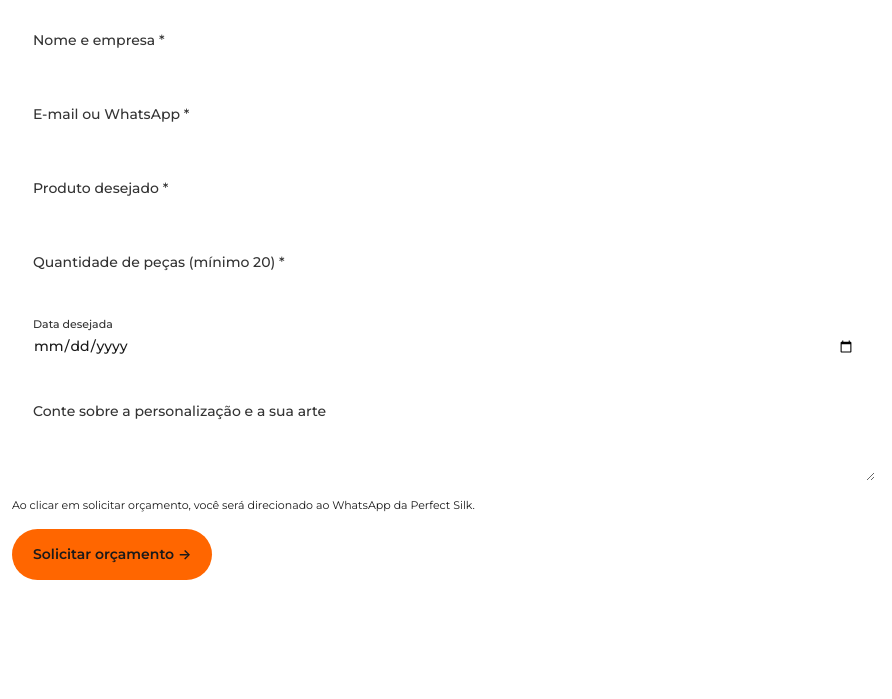
QuoteForm › shows errors and does not open WhatsApp when required fields are empty
Click the button "Solicitar orçamento →" at (112, 554), box x1=12 y1=529 x2=212 y2=580
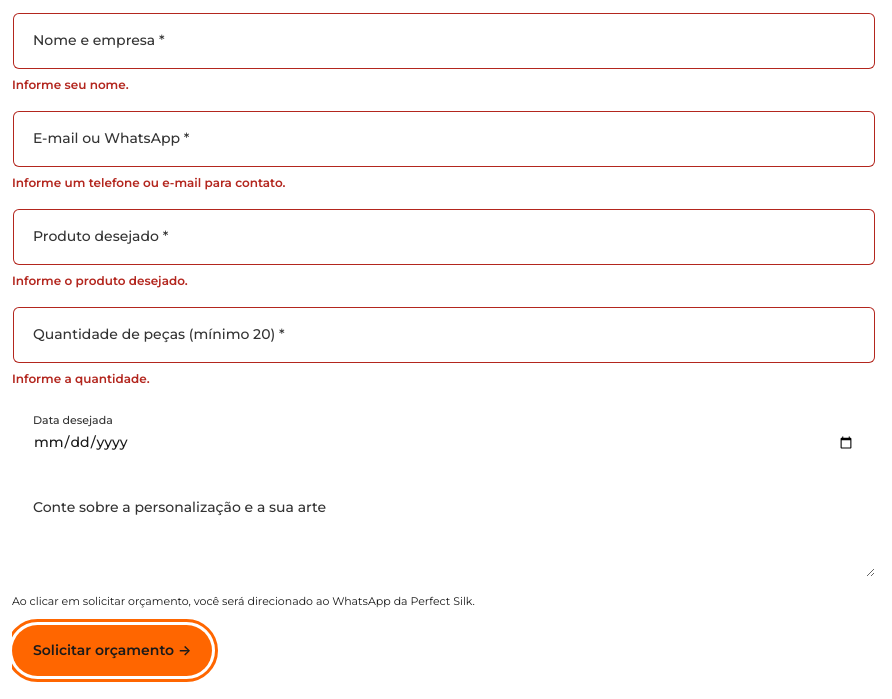
expect the number of messages is 4: met, box x1=12 y1=77 x2=129 y2=92; x1=12 y1=175 x2=286 y2=190; x1=12 y1=273 x2=188 y2=288; x1=12 y1=371 x2=150 y2=386
